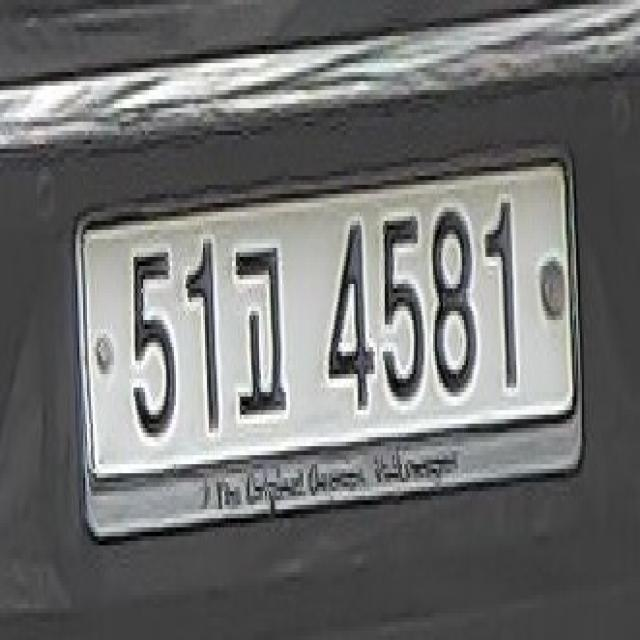1: (480, 185, 526, 399), (184, 233, 224, 448)
4: (326, 215, 374, 419)
5: (129, 230, 180, 452), (378, 208, 429, 409)
8: (431, 200, 478, 410)
go: (232, 230, 297, 428)
license_plate: (71, 143, 578, 531)
